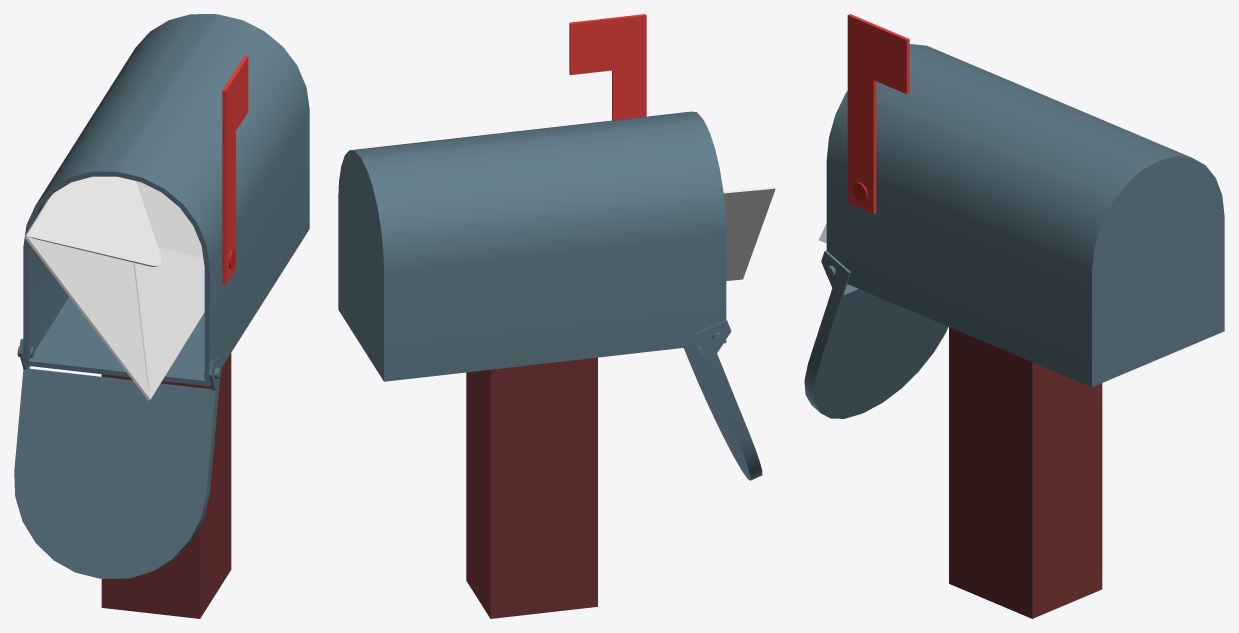
The model's file is open_mailbox_with_raised_flag.glb.
3 renders of one model, left to right at view 1: azimuth 30°, elevation 25°; view 2: azimuth 150°, elevation 25°; view 3: azimuth 270°, elevation 25°, orthographic. The views are drawn at different scales.
Parts seen in each view (by area): view 1: Cube.972, Plane.336; view 2: Cube.972, Plane.336; view 3: Cube.972.
Part boxes in pixels (box(x1,y1,x2,y2)): Cube.972: box(14, 14, 309, 618); Plane.336: box(24, 176, 204, 400); Cube.972: box(338, 14, 762, 618); Plane.336: box(723, 186, 775, 280); Cube.972: box(804, 14, 1224, 618).
Size of the model in its own units: 1.54 by 2.21 by 1.51.
Materials: 1 (1 with a texture image).
